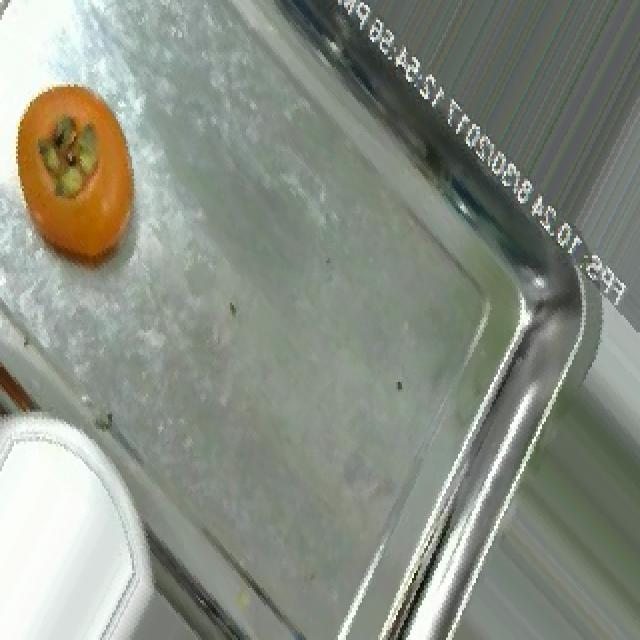Fruit: (2, 62, 154, 290)
